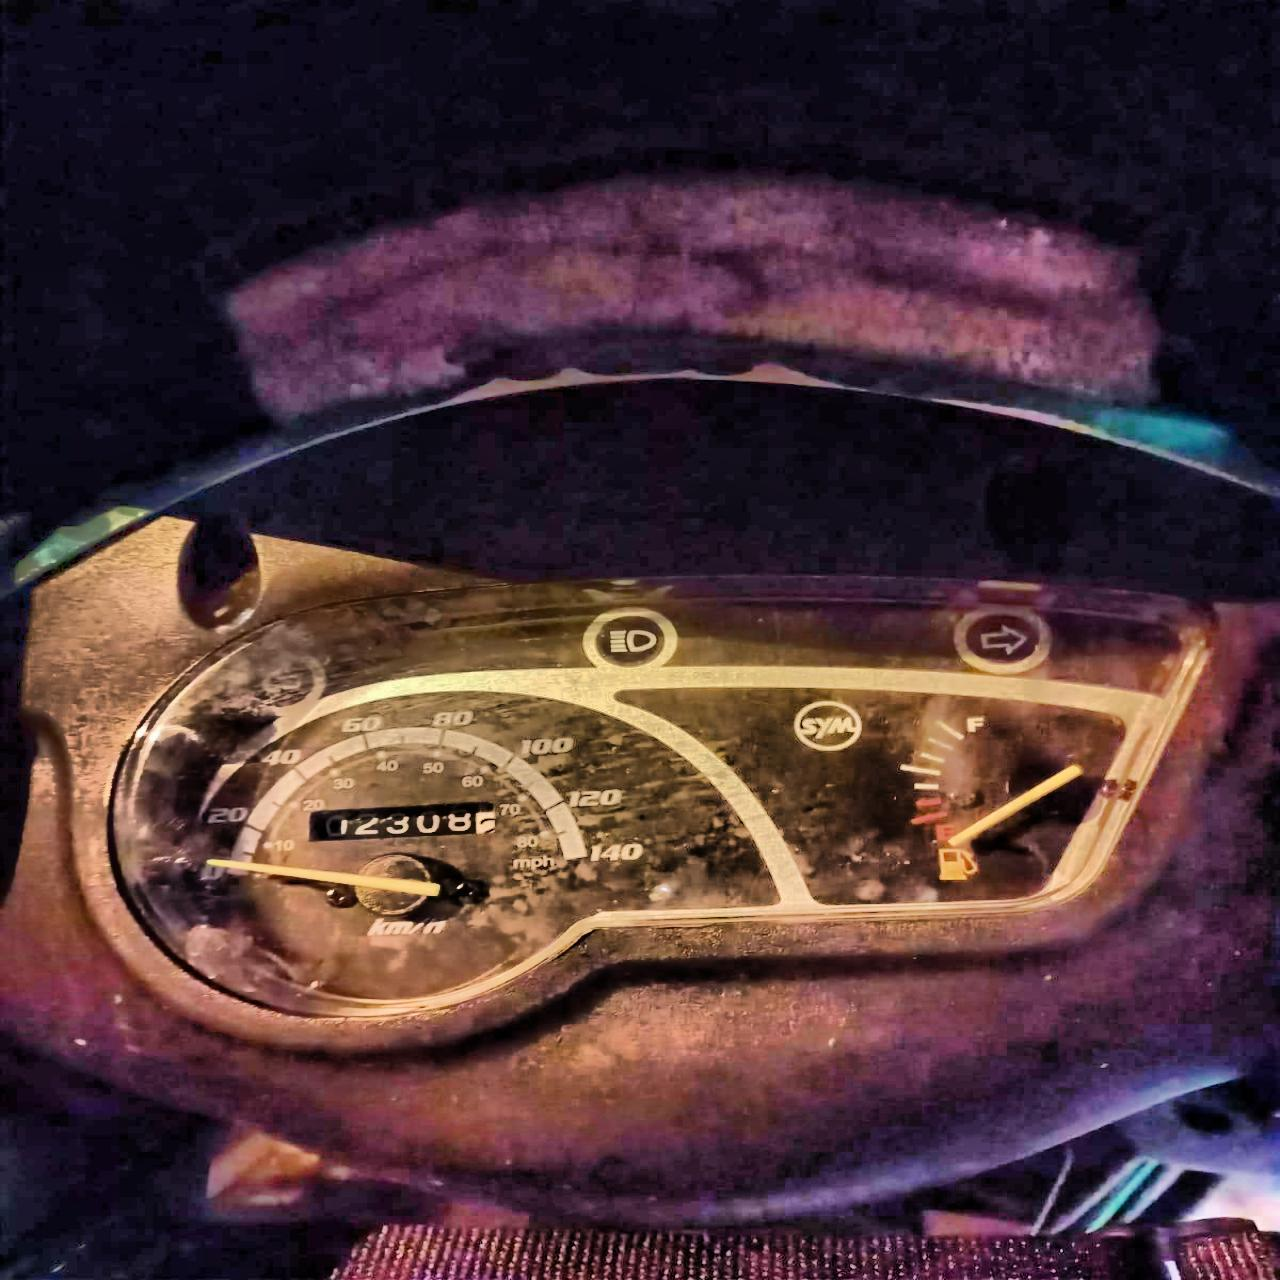0: (414, 808, 441, 833), (324, 812, 348, 838), (314, 798, 322, 810)
2: (353, 811, 379, 835), (476, 816, 493, 833), (301, 799, 313, 811)
3: (384, 810, 410, 833)
8: (445, 806, 471, 832)
odometer: (301, 796, 499, 846)
